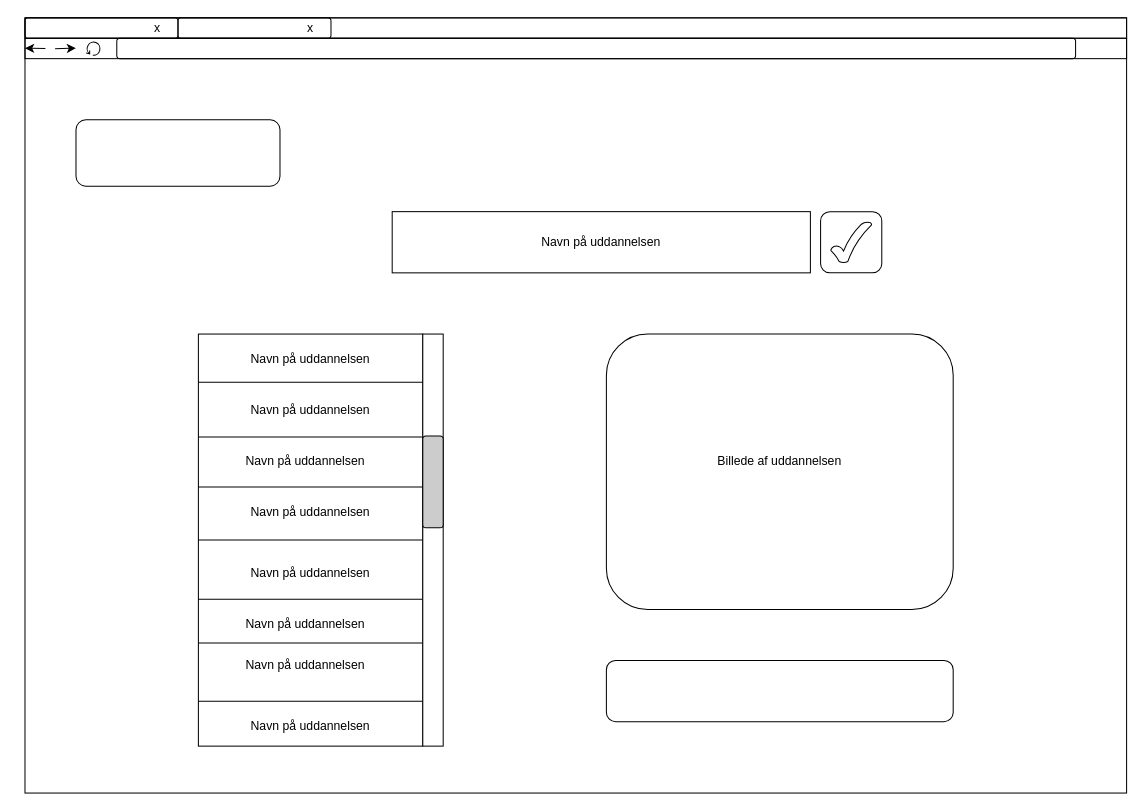
The diagram is 1144 pixels wide and 811 high, and some of its shapes have lost their labels. The shapes that lost their labels are listed below. From the top down, each one's centre as x and y in pixels, then its label:
At (x=177, y=152): "ZBC".
At (x=779, y=690): "Link til Fx UG.dk eller hvis ZBC har en".
